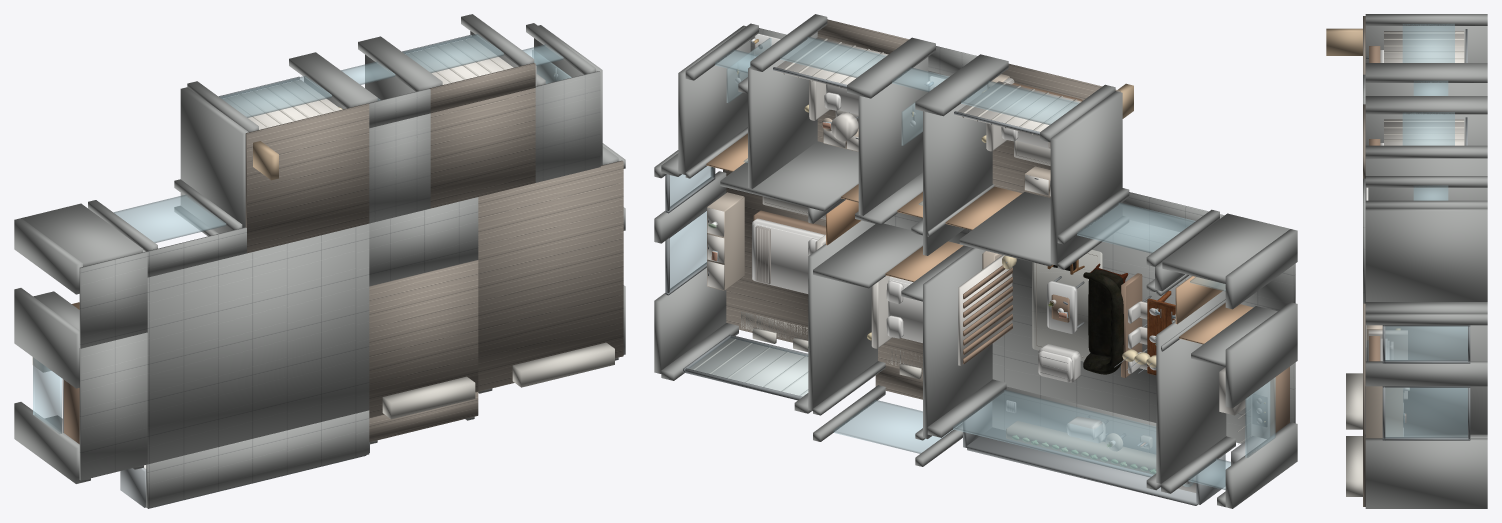
Rendered from apartment_floorplan.glb.
3 renders of one model, left to right at view 1: azimuth 30°, elevation 25°; view 2: azimuth 150°, elevation 25°; view 3: azimuth 270°, elevation 25°, orthographic. The views are drawn at different scales.
Parts seen in each view (by area): view 1: Floor_______24_9m2, Floor______17_7m2, Floor_____2_9_1m2, Floor______8_8m2, Floor_____1_6_5m2, Floor______8_7m2, Floor______5_8m2, WallOpt_Bedroom_2_west_facade, Floor______3_4m2, Floor______4_0m2, Floor_______3_8m2, Floor______3_5m2 (+30 smaller); view 2: Floor_______24_9m2, Balcony_sliding_doors, WallOpt_Bedroom_2_west_facade, WallOpt_Kitchen_living_partition_south, WallOpt_Bedroom_3_master_partition_south, WallOpt_Bathroom_bedroom_1_partition, WallOpt_Central_west_partition_south, WallOpt_Central_west_partition_north, WallOpt_Bedroom_1_master_bath_partition, WallOpt_Master_bath_east_facade, Floor______17_7m2, WallOpt_North_rooms_partition_bedroom_master_bath_run (+73 smaller); view 3: WallOpt_Master_bath_east_facade, WallOpt_East_facade_south, WallOpt_Bedroom_3_master_partition_south, WallOpt_Master_east_lower_window, WallOpt_Bedroom_1_master_bath_partition, WallOpt_East_facade_middle, WallOpt_Master_east_upper_window, WallOpt_North_facade_bedroom_2_east_jamb, WallOpt_North_facade_bathroom_bedroom_1_pier, Bedroom_2_window, Refine_upper_left_sheer_curtain, Bedroom_1_window (+26 smaller).
Boxes of the visible parts, left/top/right/bottom form: Floor_______24_9m2: left=147, top=223, right=369, bottom=464; Floor______17_7m2: left=478, top=160, right=623, bottom=391; Floor_____2_9_1m2: left=245, top=103, right=369, bottom=253; Floor______8_8m2: left=369, top=260, right=478, bottom=418; Floor_____1_6_5m2: left=430, top=88, right=535, bottom=208; Floor______8_7m2: left=146, top=410, right=369, bottom=508; Floor______5_8m2: left=79, top=332, right=147, bottom=480; WallOpt_Bedroom_2_west_facade: left=180, top=87, right=248, bottom=233; Floor______3_4m2: left=369, top=197, right=478, bottom=286; Floor______4_0m2: left=535, top=71, right=600, bottom=182; Floor_______3_8m2: left=369, top=113, right=430, bottom=223; Floor______3_5m2: left=79, top=251, right=147, bottom=348; Floor_______24_9m2: left=992, top=220, right=1191, bottom=422; Balcony_sliding_doors: left=953, top=389, right=1156, bottom=477; WallOpt_Bedroom_2_west_facade: left=1050, top=91, right=1122, bottom=265; WallOpt_Kitchen_living_partition_south: left=1156, top=289, right=1226, bottom=483; WallOpt_Bedroom_3_master_partition_south: left=808, top=220, right=877, bottom=410; WallOpt_Bathroom_bedroom_1_partition: left=858, top=57, right=928, bottom=215; WallOpt_Central_west_partition_south: left=923, top=248, right=992, bottom=438; WallOpt_Central_west_partition_north: left=923, top=85, right=992, bottom=255; WallOpt_Bedroom_1_master_bath_partition: left=748, top=32, right=817, bottom=188; WallOpt_Master_bath_east_facade: left=678, top=25, right=750, bottom=174; Floor______17_7m2: left=723, top=169, right=825, bottom=342; WallOpt_North_rooms_partition_bedroom_master_bath_run: left=720, top=141, right=858, bottom=211; WallOpt_Master_bath_east_facade: left=1365, top=208, right=1487, bottom=301; WallOpt_East_facade_south: left=1365, top=438, right=1487, bottom=508; WallOpt_Bedroom_3_master_partition_south: left=1365, top=325, right=1487, bottom=434; WallOpt_Master_east_lower_window: left=1385, top=387, right=1467, bottom=437; WallOpt_Bedroom_1_master_bath_partition: left=1365, top=158, right=1487, bottom=200; WallOpt_East_facade_middle: left=1365, top=361, right=1487, bottom=386; WallOpt_Master_east_upper_window: left=1385, top=326, right=1467, bottom=360; WallOpt_North_facade_bedroom_2_east_jamb: left=1365, top=63, right=1487, bottom=82; WallOpt_North_facade_bathroom_bedroom_1_pier: left=1365, top=96, right=1487, bottom=114; Bedroom_2_window: left=1402, top=23, right=1454, bottom=62; Refine_upper_left_sheer_curtain: left=1384, top=31, right=1464, bottom=62; Bedroom_1_window: left=1402, top=112, right=1454, bottom=145.
Size of the model in its own units: 14380 by 8890 by 3700.
Materials: 55 (10 with a texture image).
